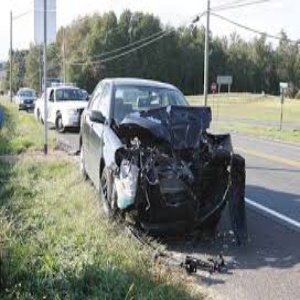bonnet: (127, 101, 217, 147)
bumper: (143, 162, 247, 232)
